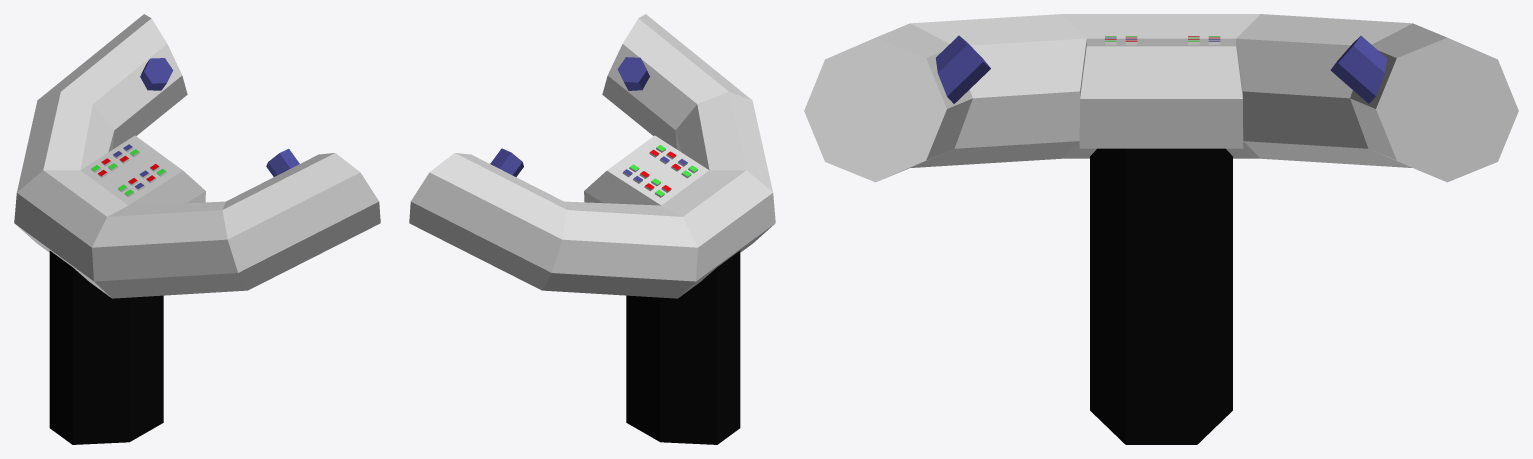
The model's file is штурвал.fbx.
3 views of the same model, side by side, from view 1: azimuth 30°, elevation 25°; view 2: azimuth 150°, elevation 25°; view 3: azimuth 270°, elevation 25° (orthographic). The views are drawn at different scales.
Visible parts, largest first — view 1: Тор; view 2: Тор; view 3: Тор.
Boxes of the visible parts, box(x1,y1,x2,y2) form: Тор: box(14, 14, 380, 444); Тор: box(409, 14, 775, 444); Тор: box(804, 14, 1518, 444).
Size of the model in its own units: 135 by 181 by 246.
